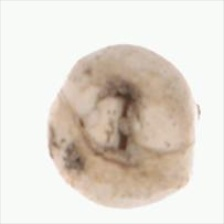L3: (78, 87, 135, 164)
L4: (46, 44, 196, 208)
